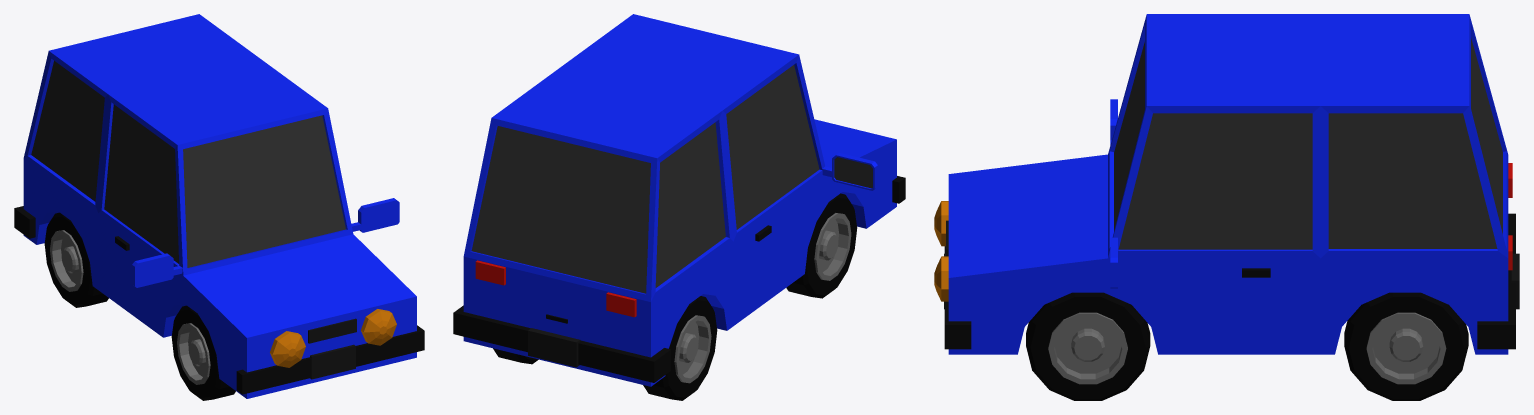
The model's file is Car.obj.
3 views of the same model, side by side, from view 1: azimuth 30°, elevation 25°; view 2: azimuth 150°, elevation 25°; view 3: azimuth 270°, elevation 25° (orthographic). The views are drawn at different scales.
Parts seen in each view (by area): view 1: Plane, Cylinder, Cube; view 2: Plane, Cylinder, Cube; view 3: Plane, Cylinder, Cube.
Part boxes in pixels (x1=…): Plane: x1=23, y1=14, x2=416, y2=398; Cylinder: x1=44, y1=212, x2=235, y2=400; Cube: x1=14, y1=206, x2=424, y2=394; Plane: x1=463, y1=14, x2=896, y2=386; Cylinder: x1=493, y1=193, x2=857, y2=400; Cube: x1=453, y1=176, x2=905, y2=382; Plane: x1=934, y1=14, x2=1508, y2=354; Cylinder: x1=1026, y1=292, x2=1468, y2=400; Cube: x1=944, y1=163, x2=1519, y2=349.
Bounding box in the file's own units: 2.86 × 2.41 × 4.37.
